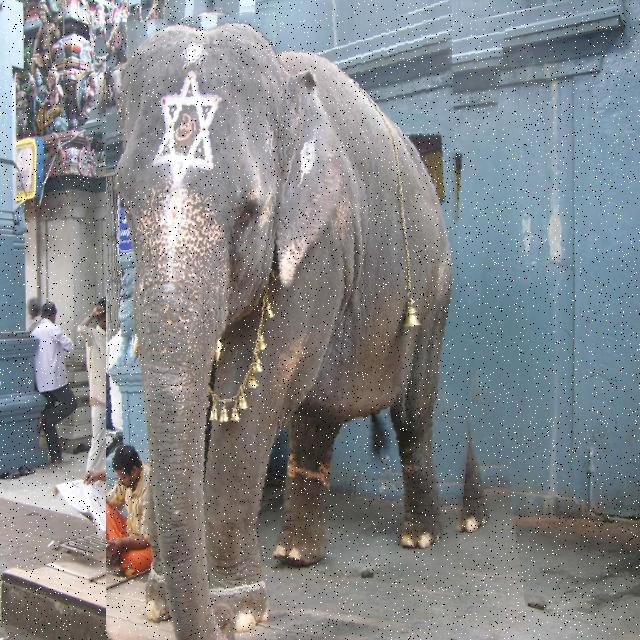elephant: (106, 0, 506, 640)
